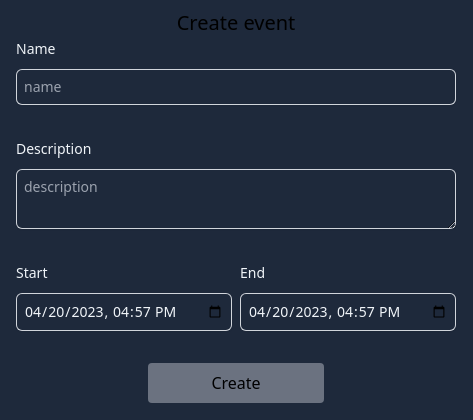
Test: Create Event › with valid inputs › should have submit button not disabled when all fields are filled
Type "Test Event" into the field labelled "Name" at (236, 87), box [16, 69, 456, 105]
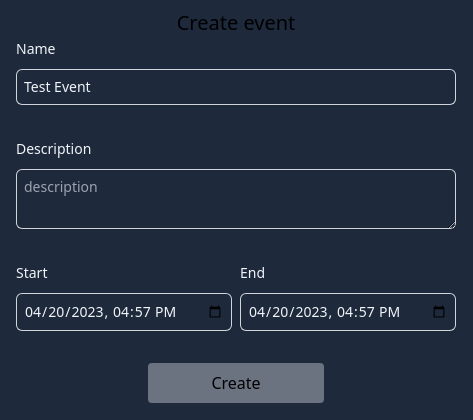
Type "Test Description" into the text box labelled "Description" at (236, 199), box [16, 169, 456, 229]
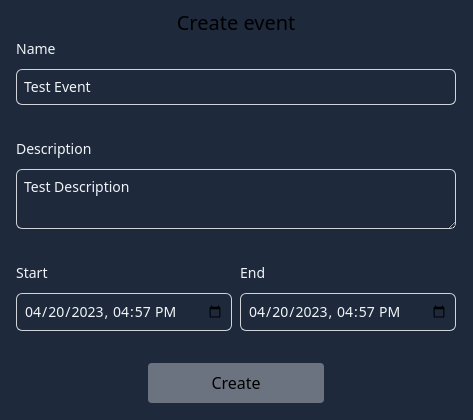
Replace the text in the field labelled "Start" with "2026-09-01T09:00" at (124, 312), box [16, 293, 232, 331]
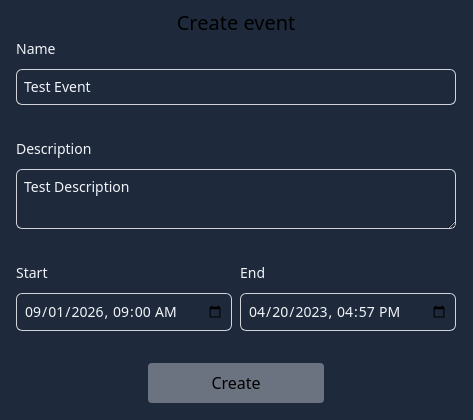
Replace the text in the field labelled "End" with "2026-09-01T10:00" at (348, 312), box [240, 293, 456, 331]
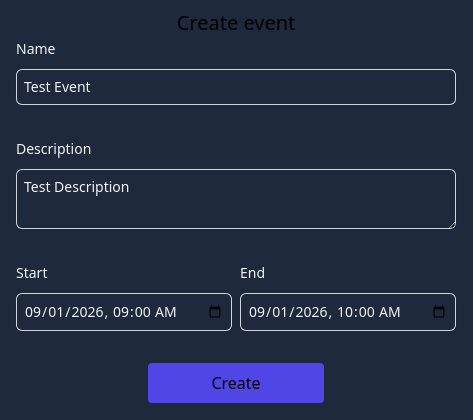
Expected: the button is enabled, [148, 363, 324, 403]
